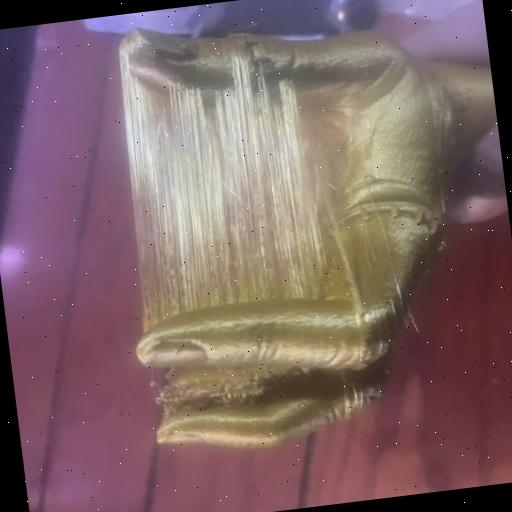stringing: (114, 54, 340, 336)
